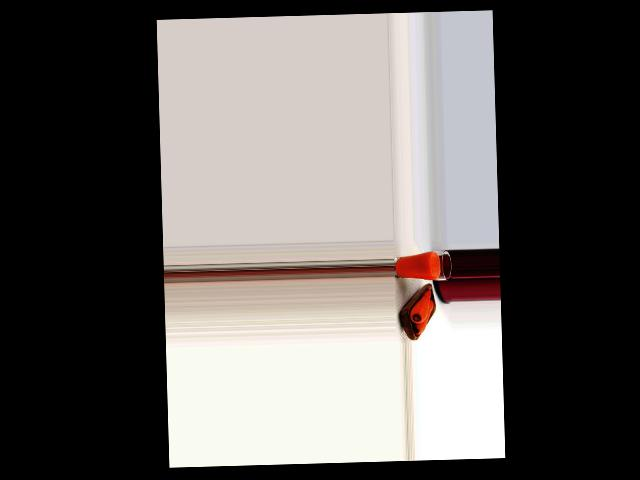carrot: (410, 303, 434, 336)
